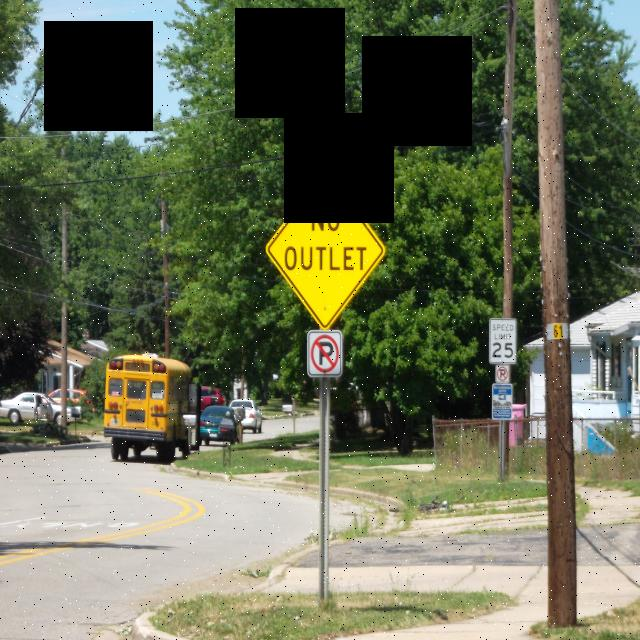regulatory: (305, 327, 347, 381), (486, 312, 522, 371), (494, 364, 510, 385)
warning: (260, 164, 393, 330)
